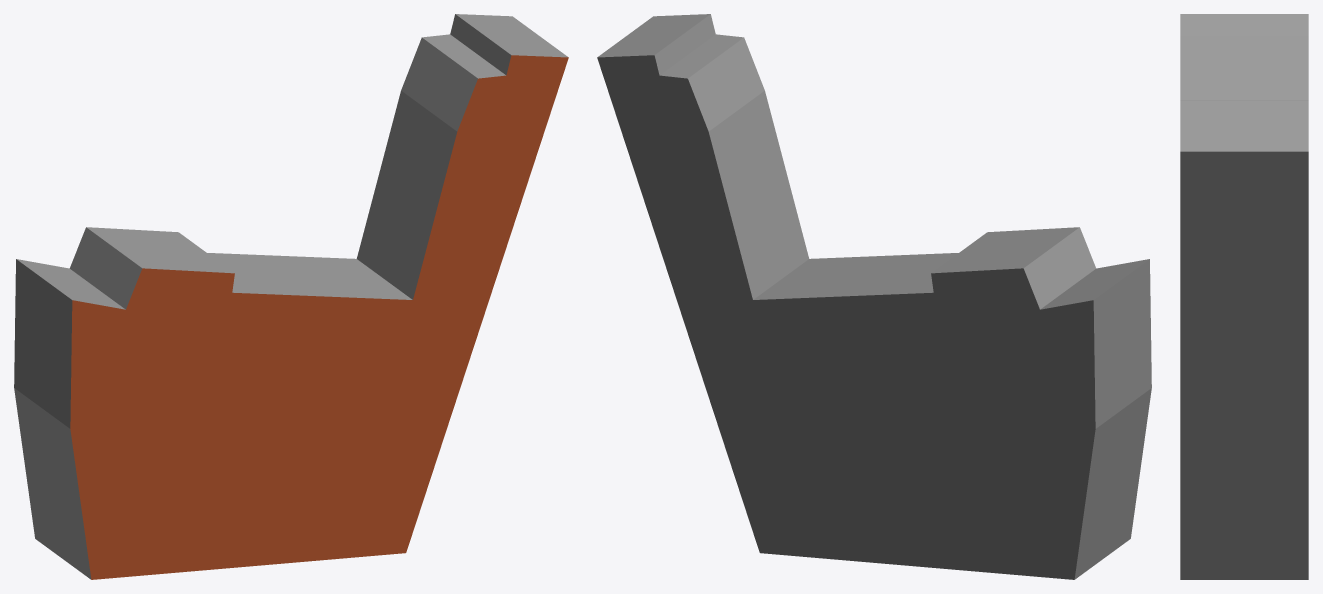
File: construction_0350_assumed_A_Casa_h6m.obj
The picture shows the model from 3 angles, left to right: view 1: azimuth 30°, elevation 25°; view 2: azimuth 150°, elevation 25°; view 3: azimuth 270°, elevation 25°; orthographic projection. The views are drawn at different scales.
Parts seen in each view (by area): view 1: construction_0350_assumed_A_Casa; view 2: construction_0350_assumed_A_Casa; view 3: construction_0350_assumed_A_Casa.
Part boxes in pixels (x1=…): construction_0350_assumed_A_Casa: x1=14, y1=14, x2=568, y2=579; construction_0350_assumed_A_Casa: x1=597, y1=14, x2=1151, y2=579; construction_0350_assumed_A_Casa: x1=1180, y1=14, x2=1308, y2=579.
Bounding box in the file's own units: 30.69 × 27.78 × 6.
